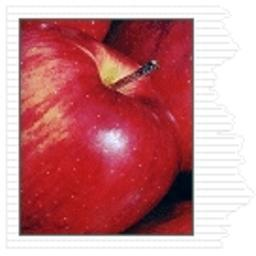apple: (20, 23, 190, 232)
